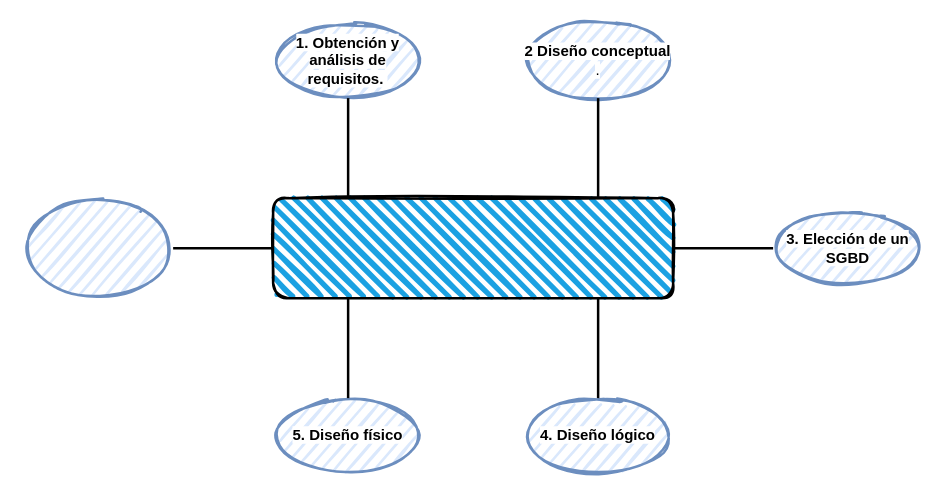
The diagram is 945 pixels wide and 495 high, and some of its shapes have lost their labels. The centre of each missing label's shape, as x and y in pixels:
"6.Implementaci ón y ajuste del sistema de BD" belongs at [97,247].
"Creación de BD ETAPAS" belongs at [472,247].
